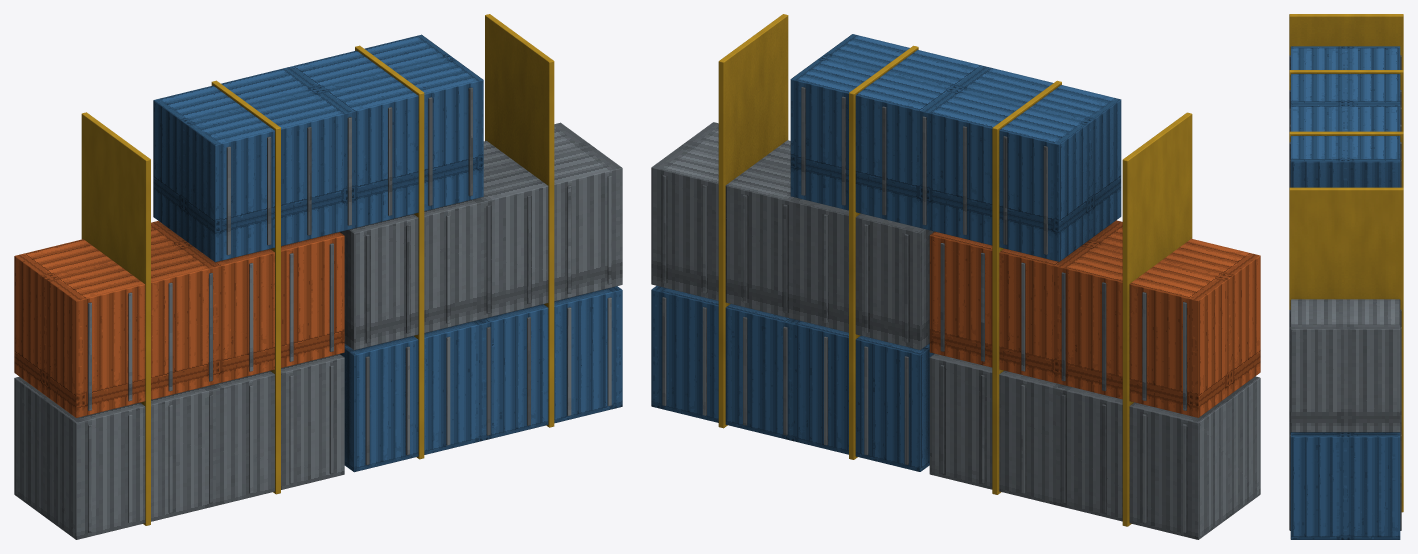
The model's file is base_container_stack.glb.
3 views of the same model, side by side, from view 1: azimuth 30°, elevation 25°; view 2: azimuth 150°, elevation 25°; view 3: azimuth 270°, elevation 25° (orthographic). The views are drawn at different scales.
Visible parts, largest first — view 1: base_container_stack; view 2: base_container_stack; view 3: base_container_stack.
Part boxes in pixels (left/top/right/bottom): base_container_stack: left=14, top=14, right=622, bottom=539; base_container_stack: left=651, top=14, right=1260, bottom=539; base_container_stack: left=1289, top=14, right=1403, bottom=539.
Bounding box in the file's own units: 12.2 × 7.8 × 2.5.
Materials: 4 (4 with a texture image).
